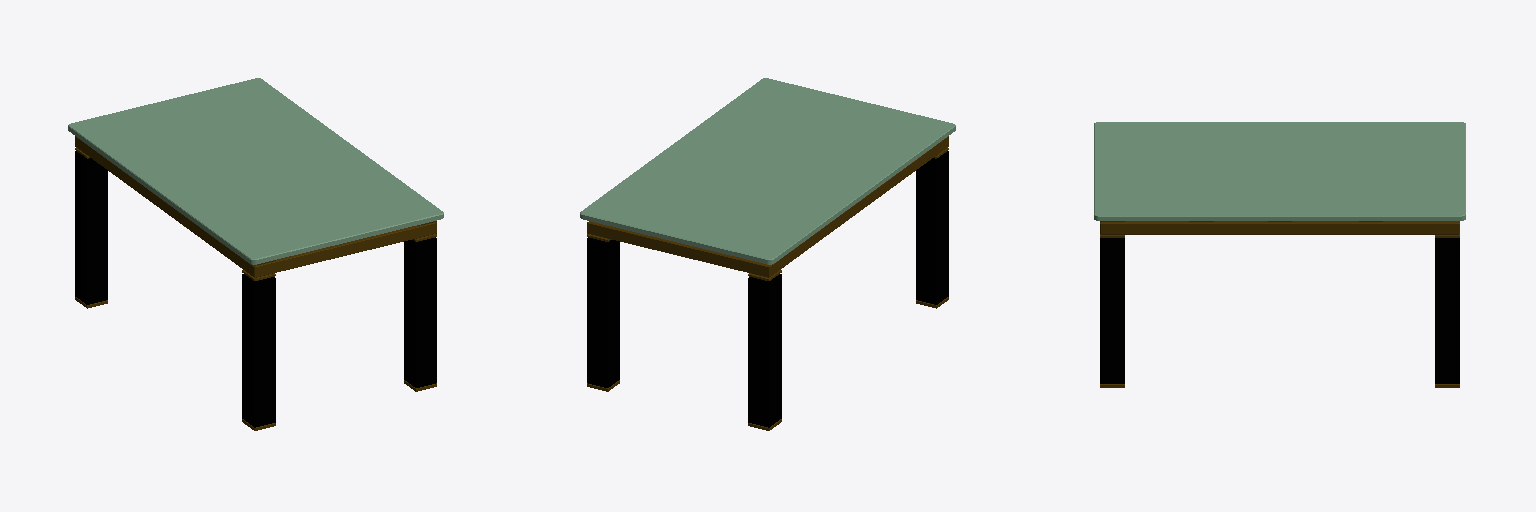
The picture shows the model from 3 angles: view 1: azimuth 30°, elevation 25°; view 2: azimuth 150°, elevation 25°; view 3: azimuth 270°, elevation 25°; orthographic projection.
Visible parts, largest first — view 1: Mesh12 Rectangl21_1 skpCE3A1 Model, Mesh9 Rectangl18_1 skpCE3A1 Model, Mesh6 Rectangl15_1 skpCE3A1 Model, Mesh13 Rectangl22_1 skpCE3A1 Model, Mesh11 Rectangl20_1 skpCE3A1 Model; view 2: Mesh12 Rectangl21_1 skpCE3A1 Model, Mesh13 Rectangl22_1 skpCE3A1 Model, Mesh3 Rectangl12_1 skpCE3A1 Model, Mesh9 Rectangl18_1 skpCE3A1 Model, Mesh11 Rectangl20_1 skpCE3A1 Model; view 3: Mesh12 Rectangl21_1 skpCE3A1 Model, Mesh11 Rectangl20_1 skpCE3A1 Model, Mesh3 Rectangl12_1 skpCE3A1 Model, Mesh6 Rectangl15_1 skpCE3A1 Model.
Boxes of the visible parts, <box> form: Mesh12 Rectangl21_1 skpCE3A1 Model: <box>68,78,443,264</box>; Mesh9 Rectangl18_1 skpCE3A1 Model: <box>242,274,275,427</box>; Mesh6 Rectangl15_1 skpCE3A1 Model: <box>404,237,436,387</box>; Mesh13 Rectangl22_1 skpCE3A1 Model: <box>75,151,107,304</box>; Mesh11 Rectangl20_1 skpCE3A1 Model: <box>75,136,436,277</box>; Mesh12 Rectangl21_1 skpCE3A1 Model: <box>580,78,955,264</box>; Mesh13 Rectangl22_1 skpCE3A1 Model: <box>748,274,781,427</box>; Mesh3 Rectangl12_1 skpCE3A1 Model: <box>587,237,619,387</box>; Mesh9 Rectangl18_1 skpCE3A1 Model: <box>916,151,948,304</box>; Mesh11 Rectangl20_1 skpCE3A1 Model: <box>587,136,948,277</box>; Mesh12 Rectangl21_1 skpCE3A1 Model: <box>1094,122,1465,220</box>; Mesh11 Rectangl20_1 skpCE3A1 Model: <box>1100,221,1459,234</box>; Mesh3 Rectangl12_1 skpCE3A1 Model: <box>1435,238,1459,383</box>; Mesh6 Rectangl15_1 skpCE3A1 Model: <box>1100,238,1124,383</box>.
Bounding box in the file's own units: 900 × 777 × 1500.